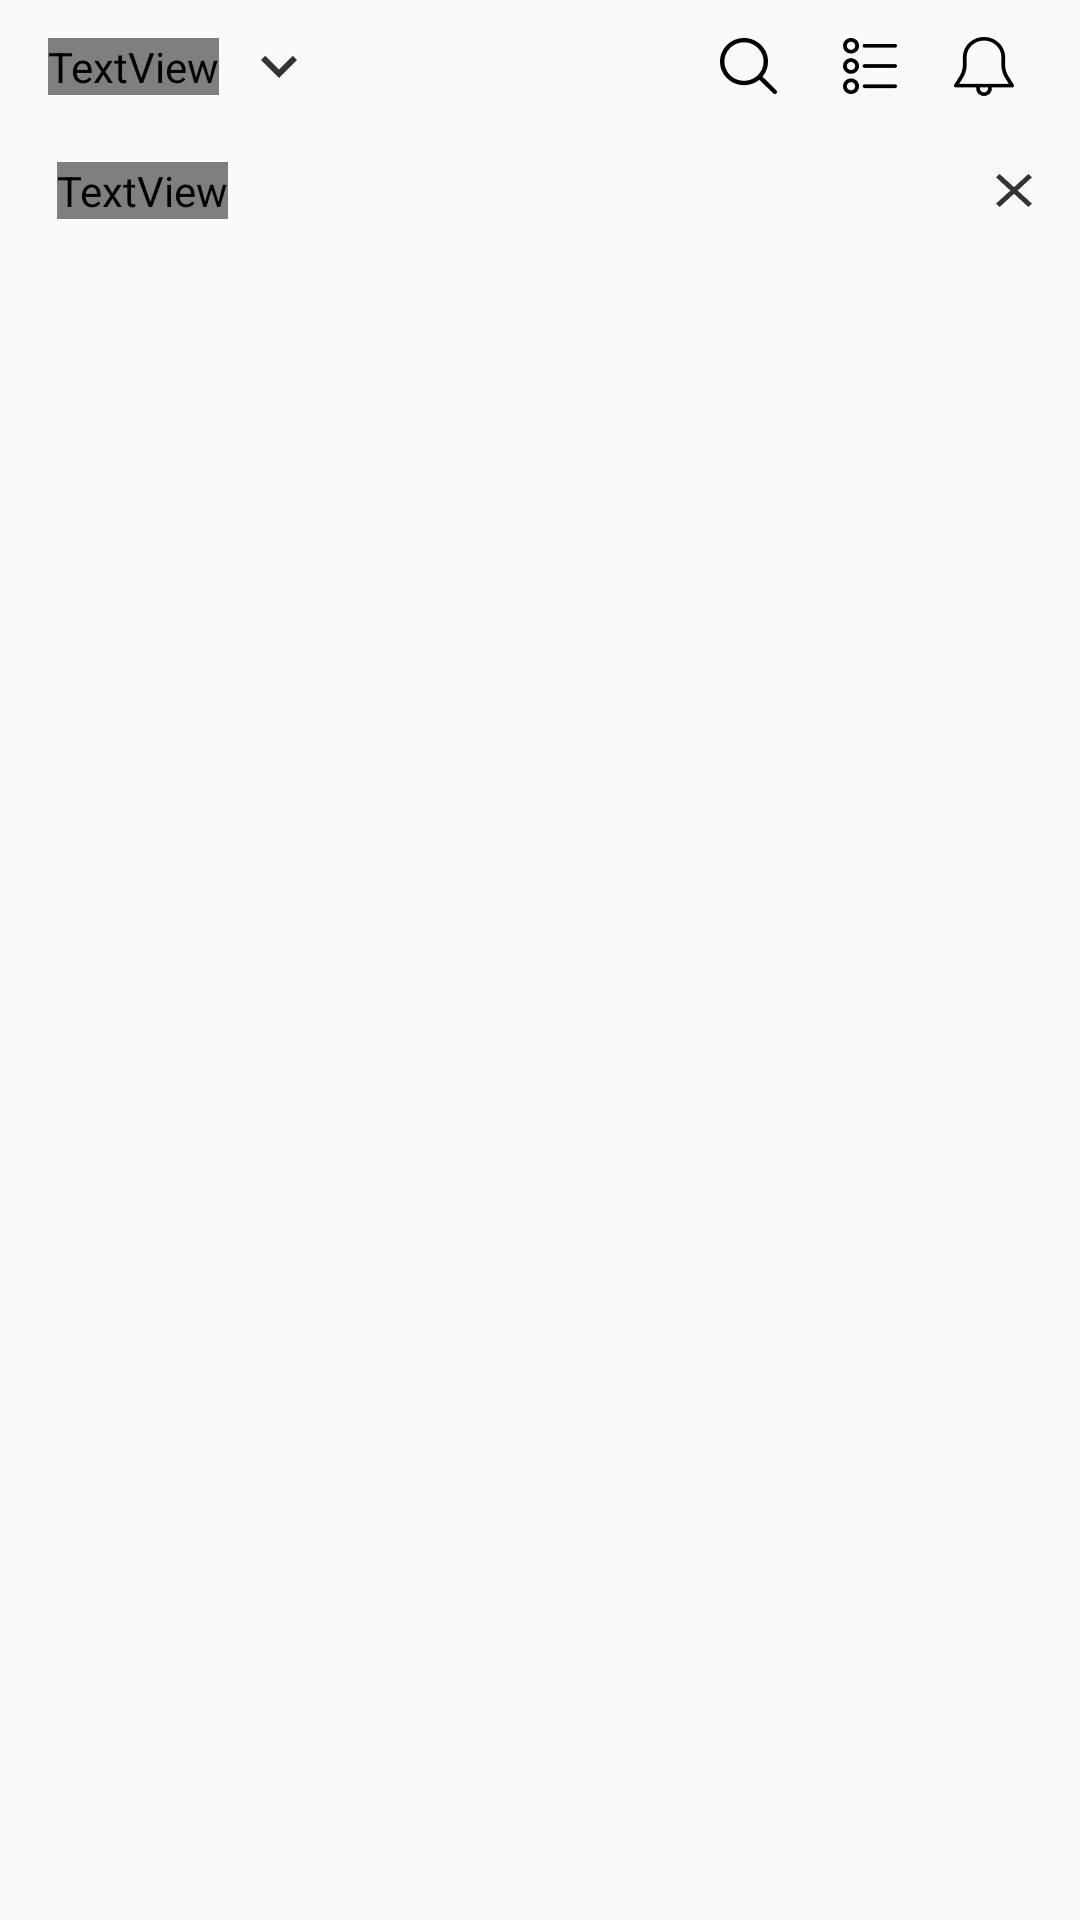

Icons on this 1080 x 1920 Android screen, each with the point to tap as (x,y):
keyboard arrow down: (279,67)
list: (870,66)
search: (748,66)
